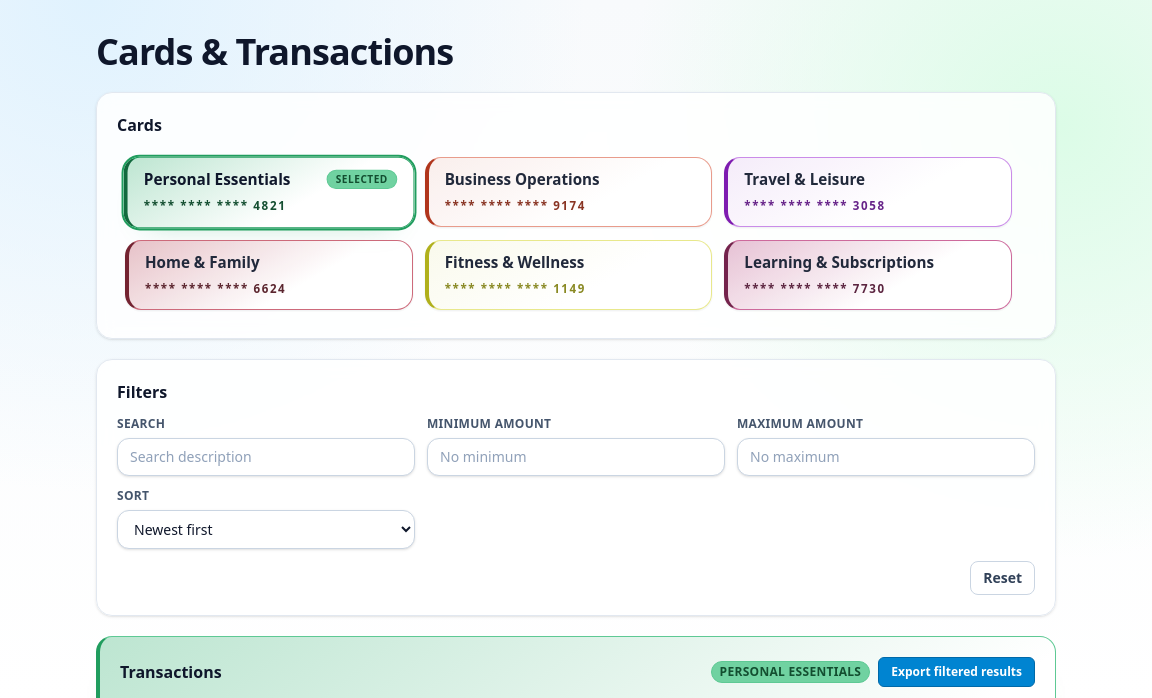
Scenario: CardsOverview integration › shows active chip controls for each applied filter
Type "coffee" into the field labelled "Search" at (266, 457), box 117,438 -> 415,476
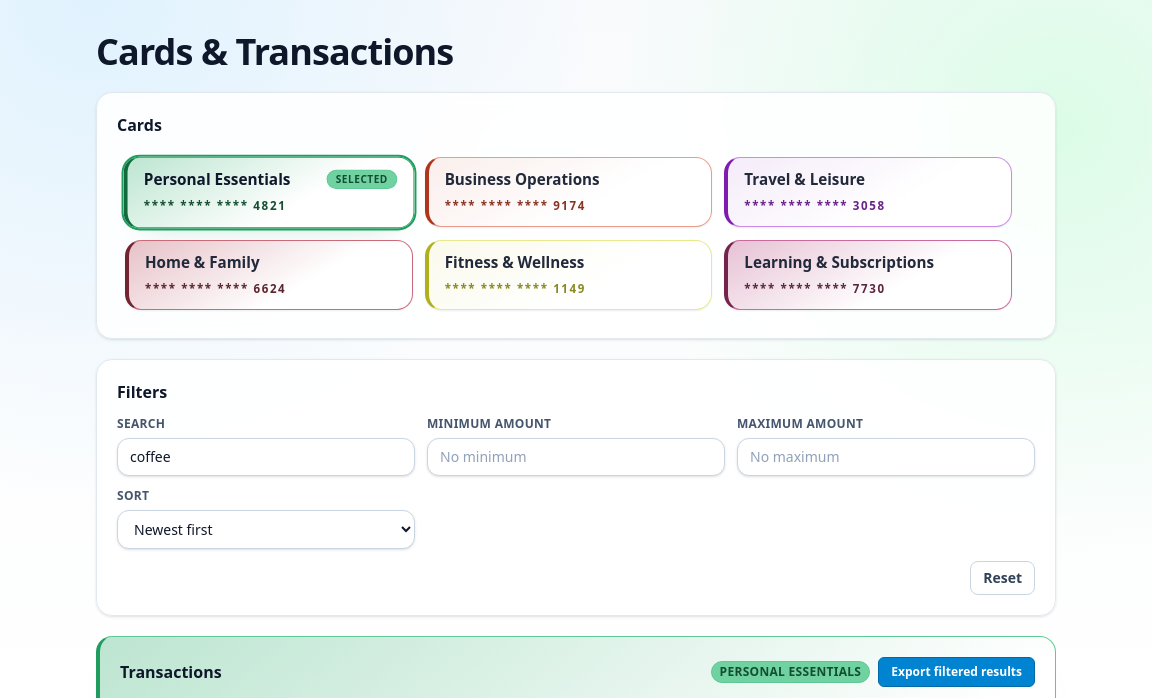
Type "10" into the number field labelled "Minimum amount" at (576, 457), box 427,438 -> 725,476
(page scrolled)
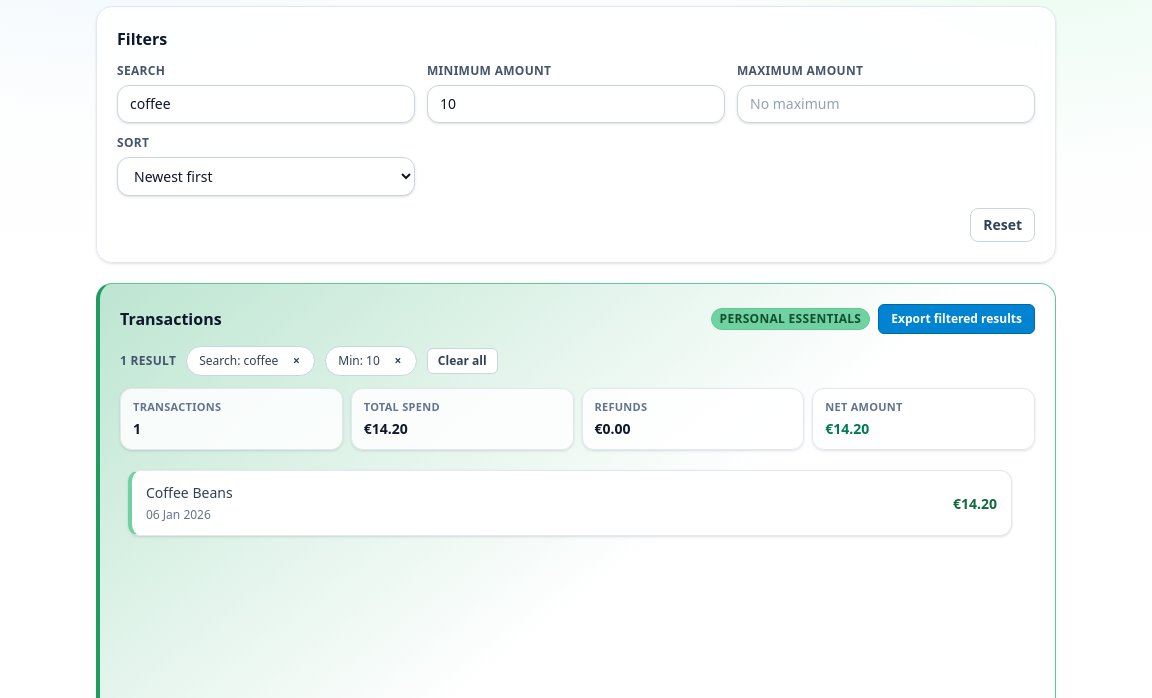
Now the button named "remove search: coffee" is enabled, box 286,351 -> 306,371
Now the text "Min: 10" is shown, box 338,353 -> 380,369
Now the button named "remove min: 10" is enabled, box 388,351 -> 408,371
